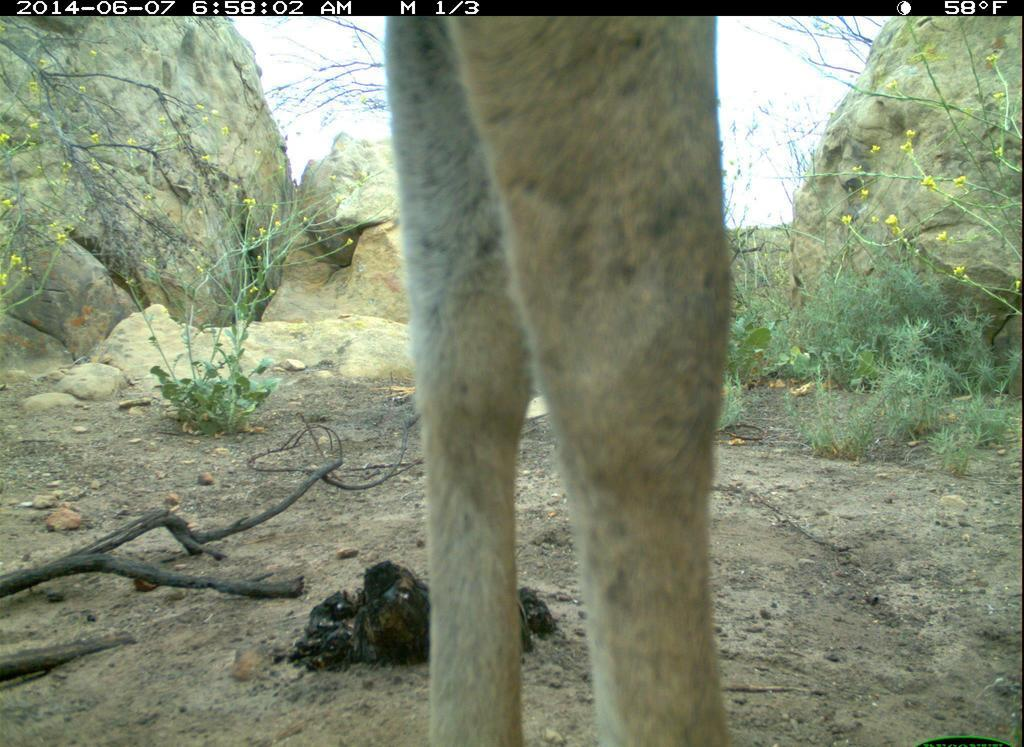deer: (369, 17, 748, 733)
